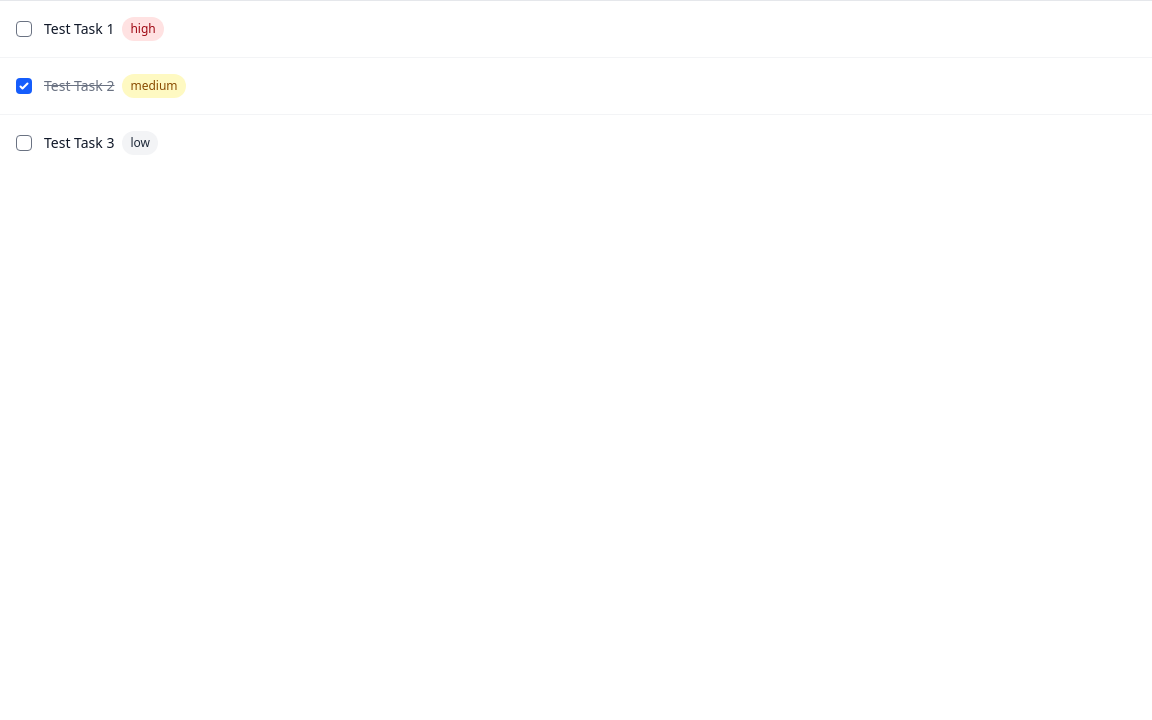
Test: TaskList Component - Unit Tests › Mouse Position Tracking › should handle right-click context menu positioning
Step 1. Right-click the button with aria-label "Task: Test Task 1" → (79, 28), box [0,1,1151,58]
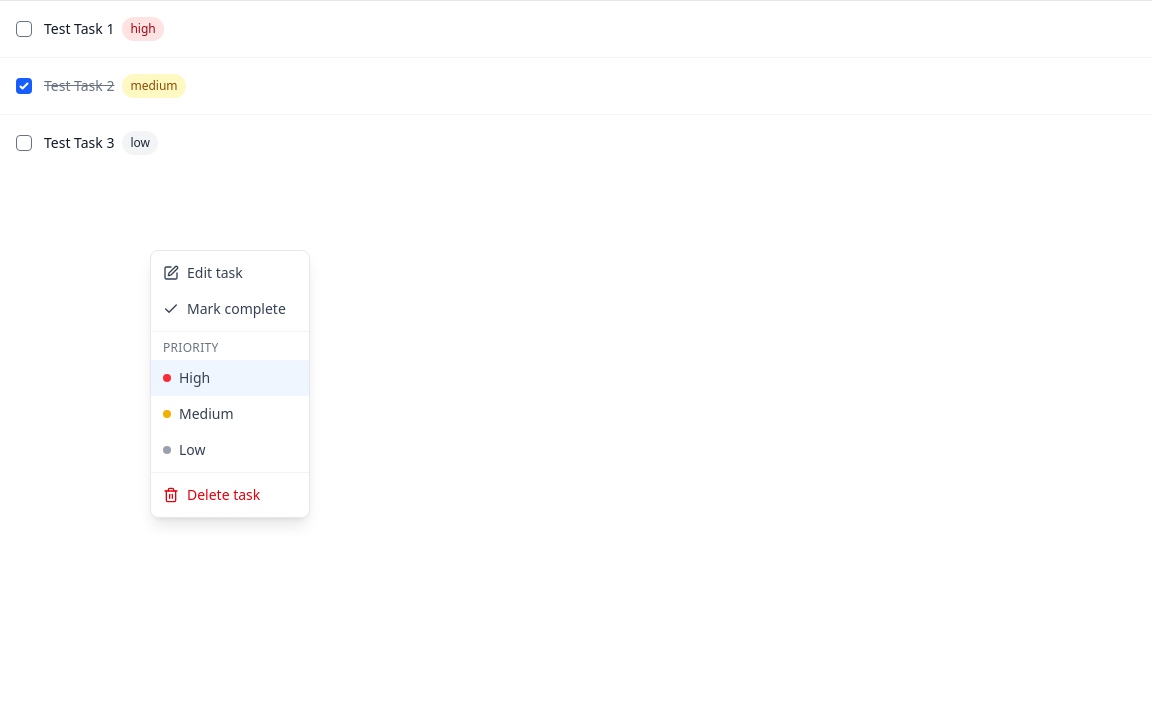
Expected: the menu is shown, [150,250,310,518]
